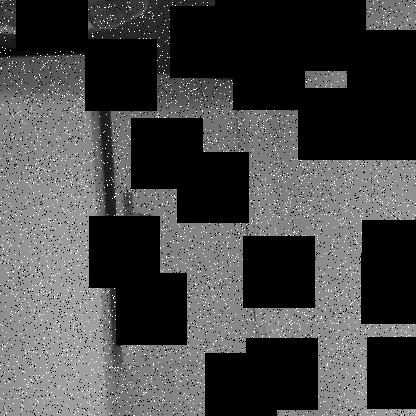Porte: (99, 69, 273, 374)
